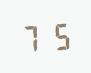five: (45, 20, 70, 51)
seven: (19, 21, 44, 53)
